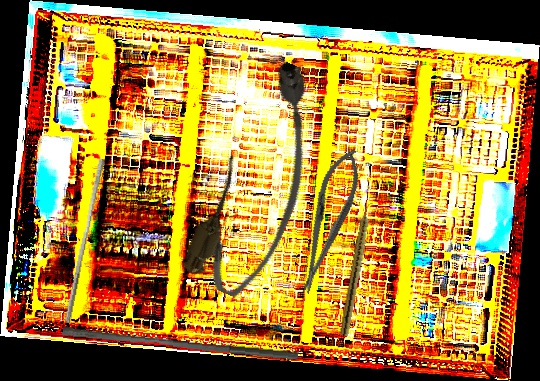Cannula: (177, 54, 346, 306)
Handpiece: (339, 200, 375, 338)
Needle Holder: (286, 143, 370, 299)
Pusher: (61, 325, 300, 361), (64, 157, 106, 325)
